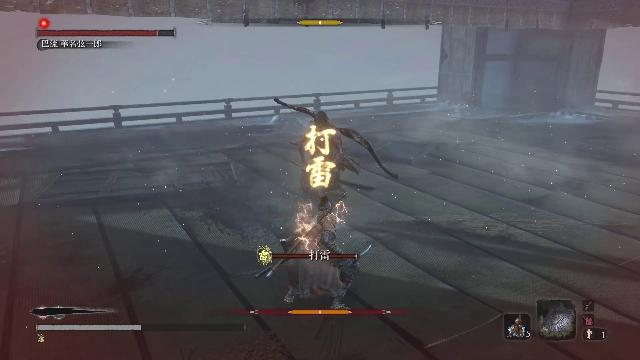sk: (277, 197, 369, 320)
